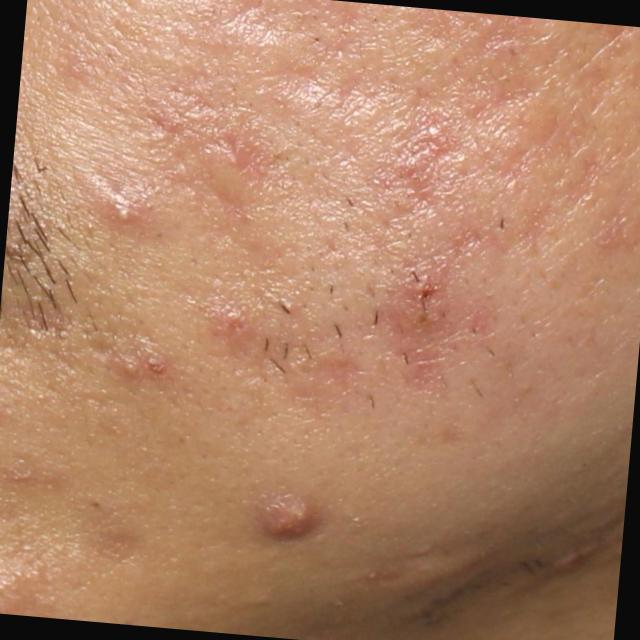blackhead: (313, 36, 320, 42)
nodule: (262, 488, 320, 544)
